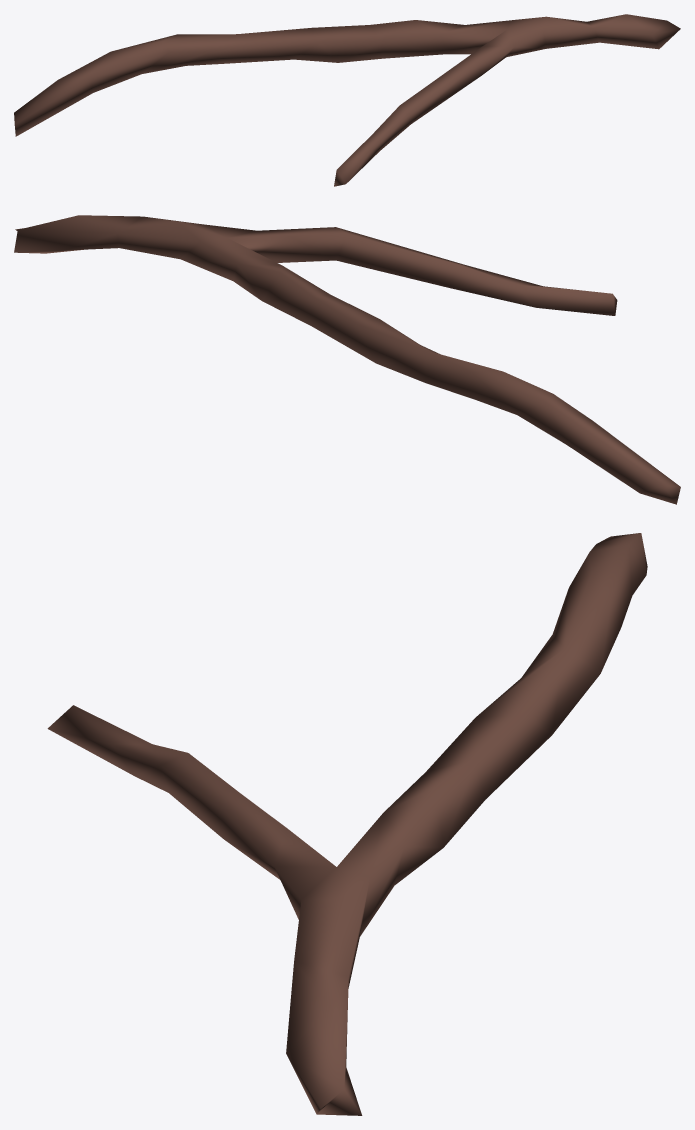
Rendered from deadwood_031.glb.
3 renders of one model, top to bottom at view 1: azimuth 30°, elevation 25°; view 2: azimuth 150°, elevation 25°; view 3: azimuth 270°, elevation 25°, orthographic. The views are drawn at different scales.
Visible parts, largest first — view 1: deadwood_031; view 2: deadwood_031; view 3: deadwood_031.
Part boxes in pixels (x1,y1,x2,y2): deadwood_031: (14,14,680,186); deadwood_031: (14,215,680,504); deadwood_031: (47,533,647,1115).
Bounding box in the file's own units: 2.74 × 0.289 × 1.2.
Materials: 1 (1 with a texture image).
